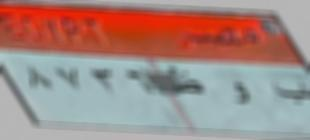2: (90, 66, 117, 100)
6: (124, 65, 152, 102)
7: (55, 62, 81, 94)
8: (23, 62, 51, 94)
Thaa: (166, 63, 209, 102)
baa: (272, 77, 310, 108)
waw: (225, 76, 256, 113)
